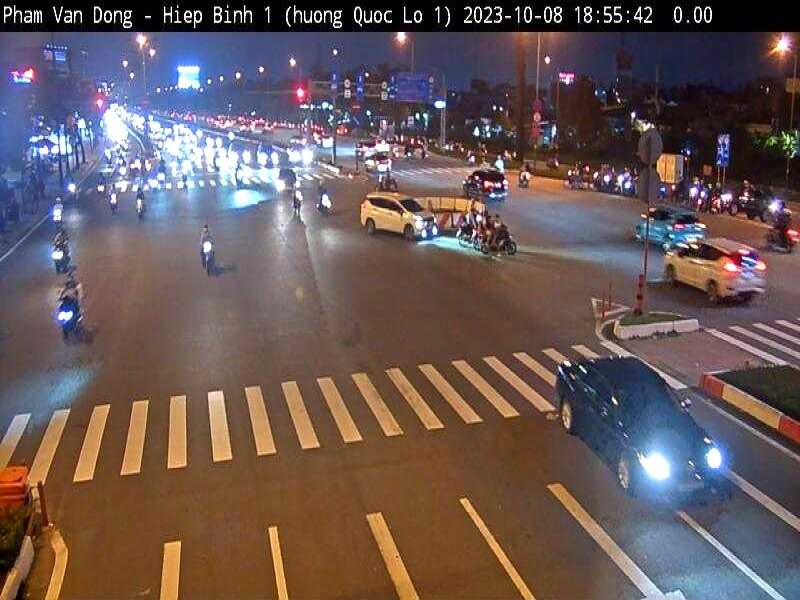car: (555, 352, 723, 509), (664, 237, 764, 304), (359, 191, 438, 240), (636, 205, 708, 254), (462, 168, 512, 202)
